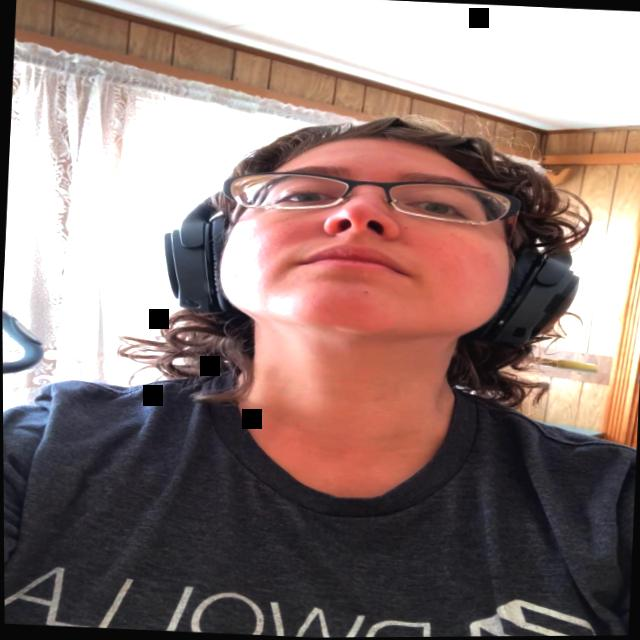NO-Mask: (215, 123, 525, 346)
